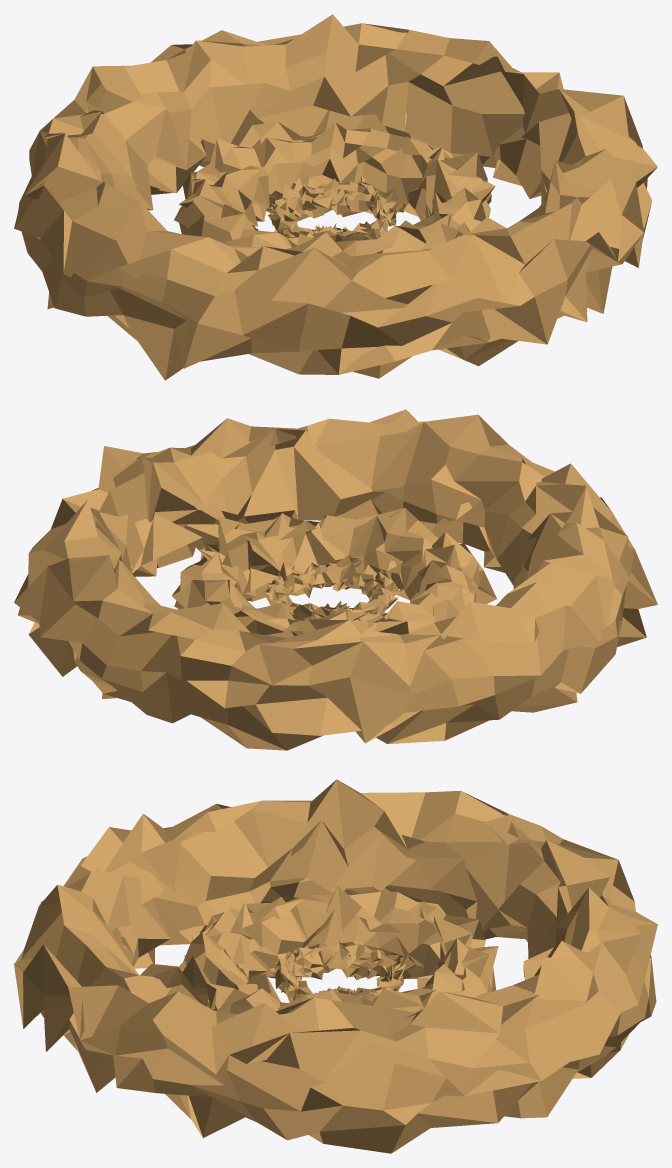
File: ShockwavePU.fbx
The picture shows the model from 3 angles, top to bottom: view 1: azimuth 30°, elevation 25°; view 2: azimuth 150°, elevation 25°; view 3: azimuth 270°, elevation 25°; orthographic projection. The views are drawn at different scales.
Parts seen in each view (by area): view 1: Torus.001, Torus.002, Torus.003; view 2: Torus.001, Torus.002, Torus.003; view 3: Torus.001, Torus.002, Torus.003.
Part boxes in pixels (x1,y1,x2,y2): Torus.001: (14,14,657,380); Torus.002: (174,121,495,261); Torus.003: (267,176,400,241); Torus.001: (14,409,657,750); Torus.002: (172,499,496,634); Torus.003: (265,555,400,620); Torus.001: (14,779,657,1153); Torus.002: (179,886,498,1014); Torus.003: (273,940,405,1002).
Bounding box in the file's own units: 549 × 137 × 547.
